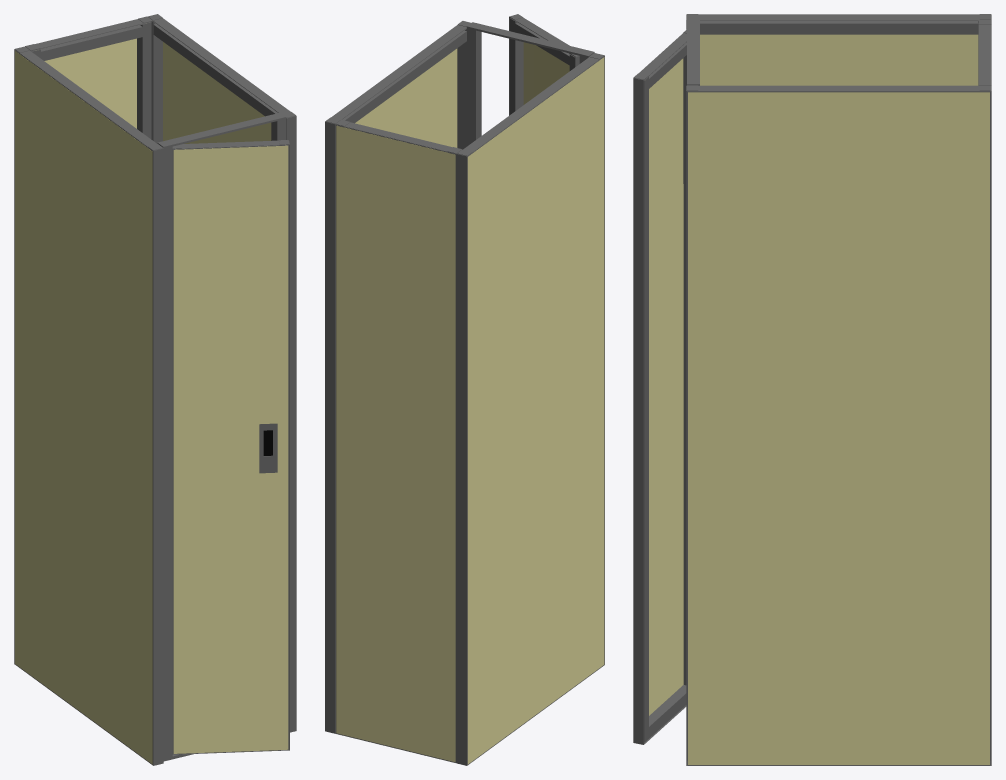
Rendered from Storage Half and Full Panels.glb.
3 renders of one model, left to right at view 1: azimuth 30°, elevation 25°; view 2: azimuth 150°, elevation 25°; view 3: azimuth 270°, elevation 25°, orthographic. The views are drawn at different scales.
Parts seen in each view (by area): view 1: Standard 38.013, Door HalfPanel.002, Standard 38.014, Standard 19.002; view 2: Standard 38.013, Standard 19.002, Standard 38.014, Door HalfPanel.002; view 3: Standard 38.014, Door HalfPanel.002, Standard 38.013, Standard 19.002.
Part boxes in pixels (x1,y1,x2,y2): Standard 38.013: (14,46,163,765); Door HalfPanel.002: (157,112,289,761); Standard 38.014: (147,14,296,732); Standard 19.002: (25,16,153,140); Standard 38.013: (457,53,604,765); Standard 19.002: (335,119,461,763); Standard 38.014: (325,21,470,733); Door HalfPanel.002: (466,14,594,146); Standard 38.014: (686,85,991,765); Door HalfPanel.002: (633,18,699,758); Standard 38.013: (686,14,991,85); Standard 19.002: (978,19,991,85).
Size of the model in its own units: 0.5767 by 2.37 by 1.14.
